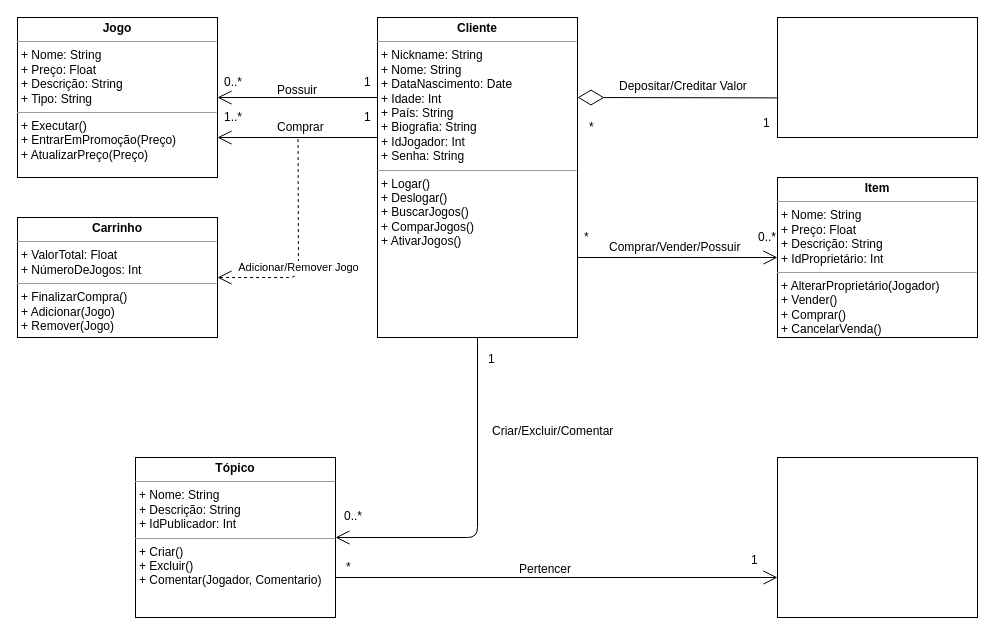
The diagram is 995 pixels wide and 635 high, and some of its shapes have lost their labels. The box of each missing label's shape, as (x1, y1, x2, y2) in pixels:
Carteira + Saldo: Float + IdJogador: Int + Debitar(Valor) + Adicionar(Valor): (776, 16, 978, 138)
Fórum + Nome: String + Descrição: String + Tipo: String: (776, 456, 978, 618)
